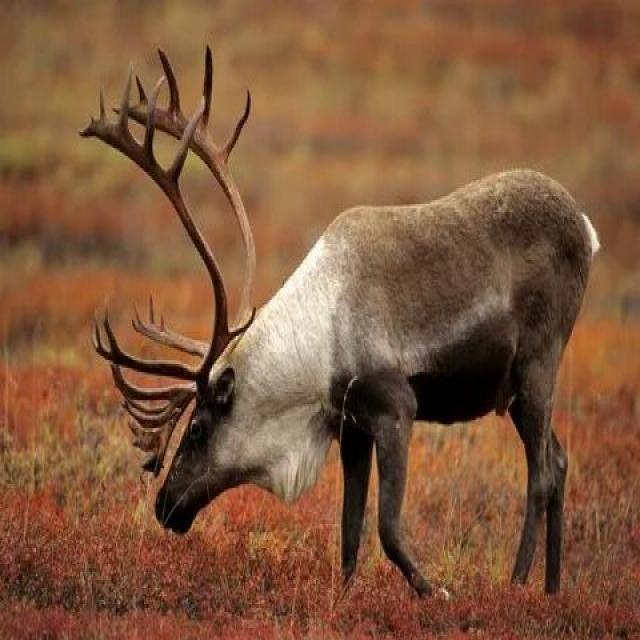deer: (122, 72, 640, 640)
